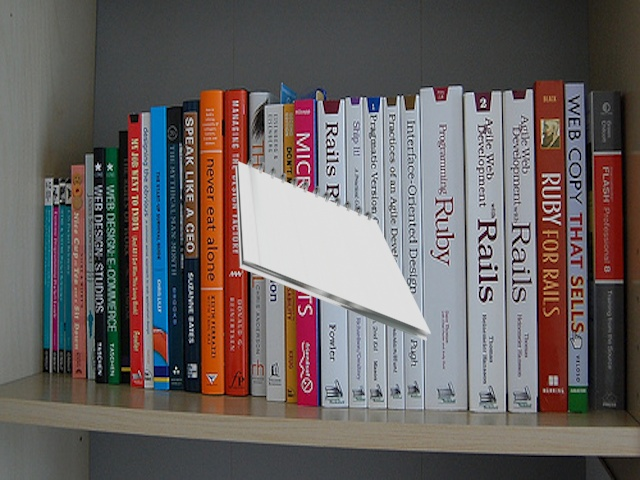paper_notebook: (233, 153, 432, 344)
